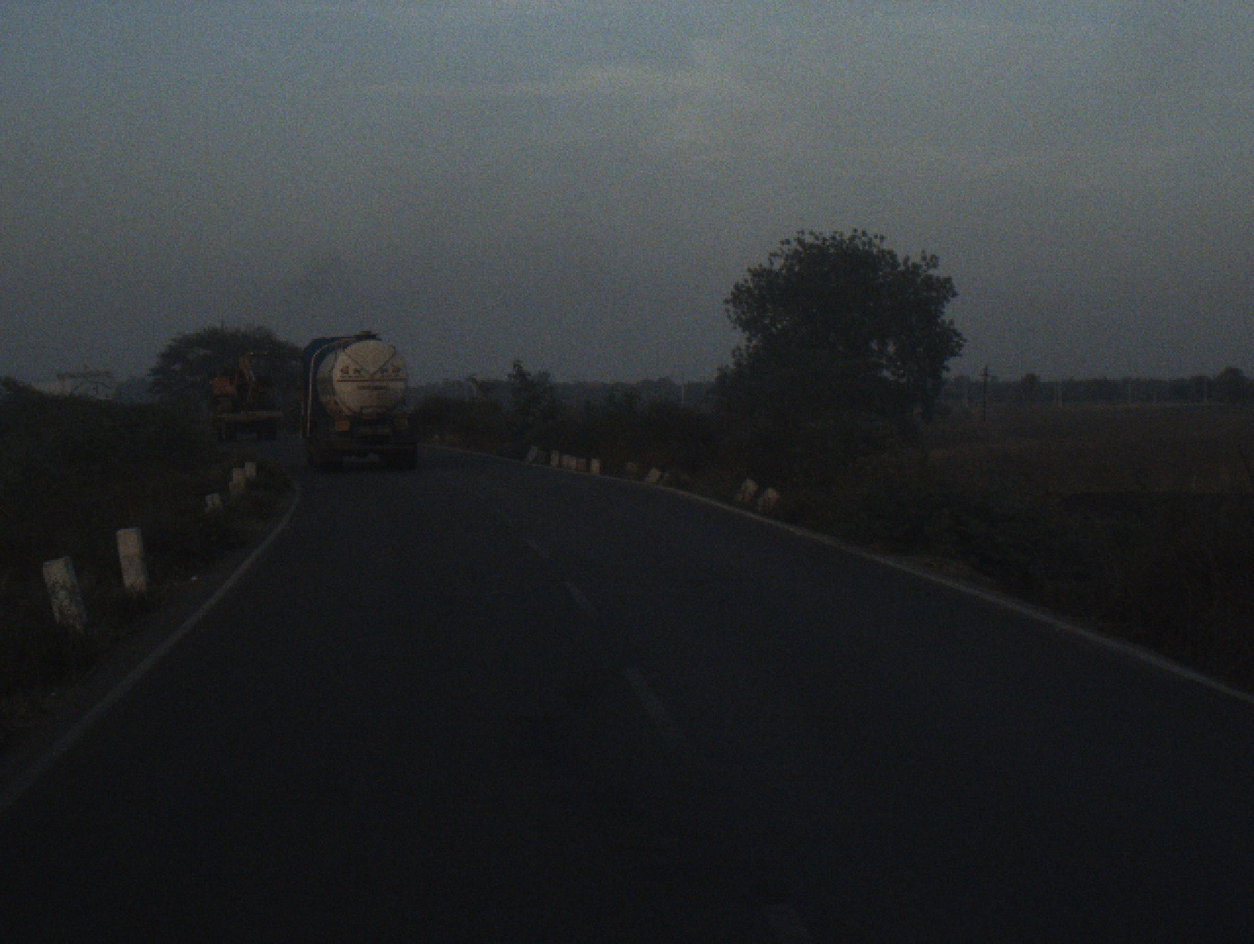truck: (299, 325, 422, 472)
vehicle fallback: (204, 353, 286, 447)
